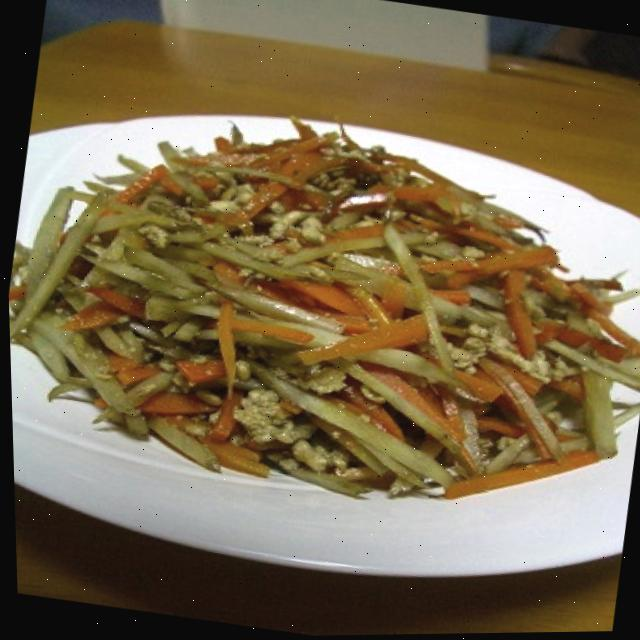蔬菜料理: (1, 51, 640, 638)
